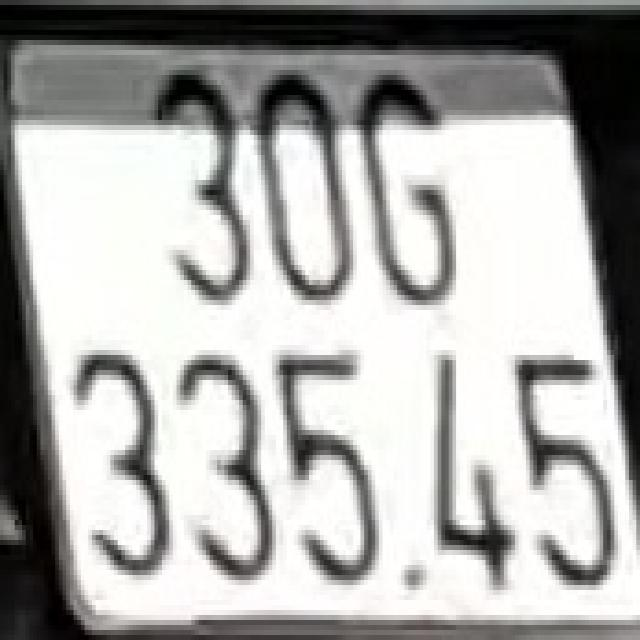0: (258, 65, 354, 305)
3: (151, 65, 254, 305), (70, 345, 173, 580), (173, 345, 276, 580)
4: (420, 345, 514, 595)
5: (276, 340, 386, 585), (515, 345, 618, 590)
G: (360, 65, 468, 305)
